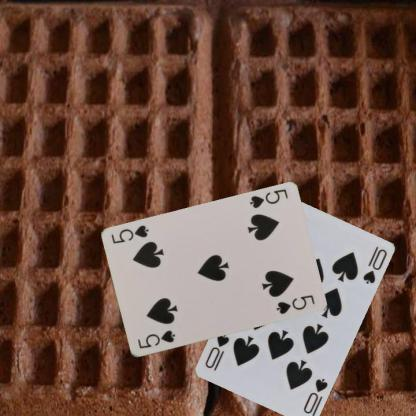10s: (300, 375, 330, 415)
5s: (247, 187, 290, 210), (135, 328, 176, 350)
